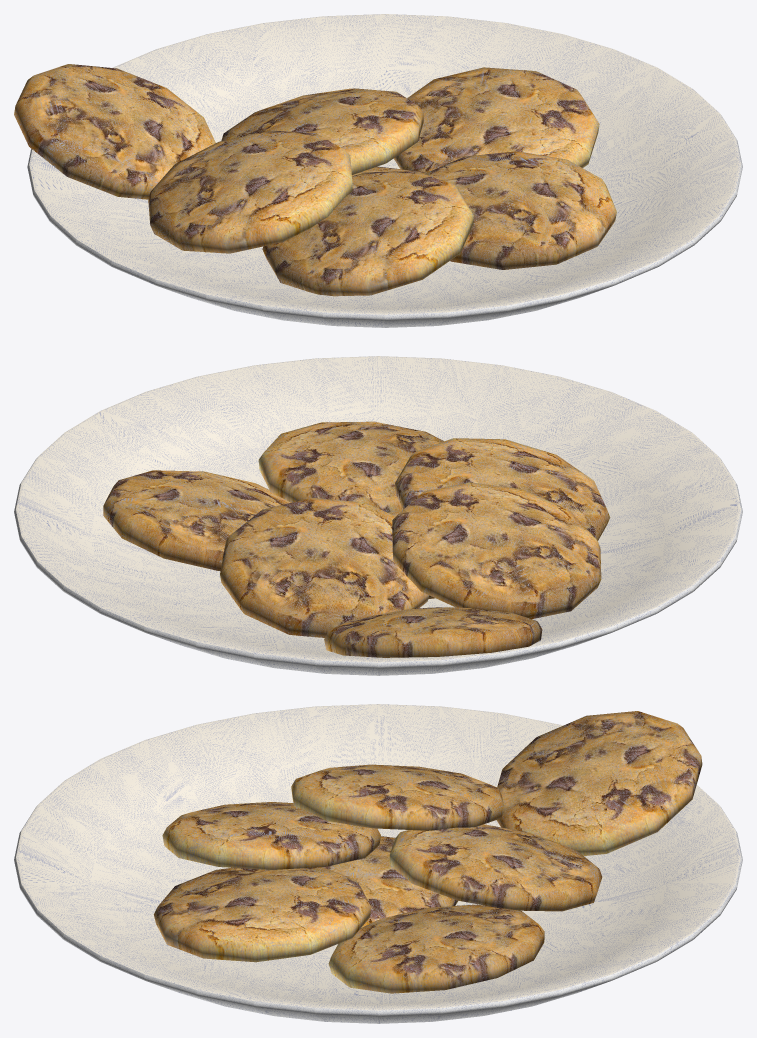
Rendered from Plate of Cookies.dae.
3 renders of one model, top to bottom at view 1: azimuth 30°, elevation 25°; view 2: azimuth 150°, elevation 25°; view 3: azimuth 270°, elevation 25°, orthographic.
Visible parts, largest first — view 1: Component_17 (×6), group_0, Component_12 (×6); view 2: group_0, Component_17 (×6), Component_12 (×6); view 3: Component_17 (×7), group_0, Component_12 (×6).
Boxes of the visible parts, bbox=[...] form: Component_17 (×6): bbox=[14, 64, 616, 296]; group_0: bbox=[29, 14, 740, 314]; Component_12 (×6): bbox=[206, 294, 563, 327]; group_0: bbox=[16, 356, 740, 662]; Component_17 (×6): bbox=[103, 421, 610, 657]; Component_12 (×6): bbox=[196, 642, 560, 675]; Component_17 (×7): bbox=[153, 711, 702, 993]; group_0: bbox=[16, 704, 740, 1010]; Component_12 (×6): bbox=[196, 990, 560, 1023].
Bounding box in the file's own units: 7.87 × 7.87 × 1.37.
